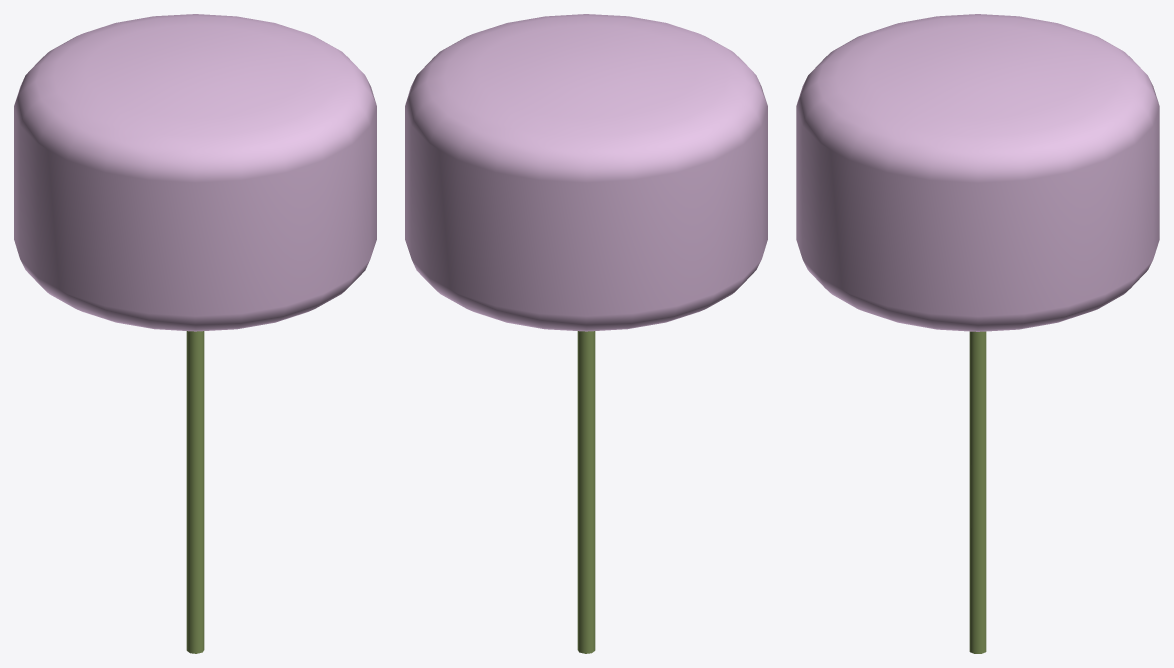
File: BulbophyllumPhalaenopsis.glb
3 renders of one model, left to right at view 1: azimuth 30°, elevation 25°; view 2: azimuth 150°, elevation 25°; view 3: azimuth 270°, elevation 25°, orthographic.
Visible parts, largest first — view 1: Orchid__Schematic_LOD3; view 2: Orchid__Schematic_LOD3; view 3: Orchid__Schematic_LOD3.
Part boxes in pixels (x1,y1,x2,y2): Orchid__Schematic_LOD3: (14, 14, 376, 653); Orchid__Schematic_LOD3: (405, 14, 767, 653); Orchid__Schematic_LOD3: (796, 14, 1159, 653).
Size of the model in its own units: 0.4 by 0.71 by 0.4.
